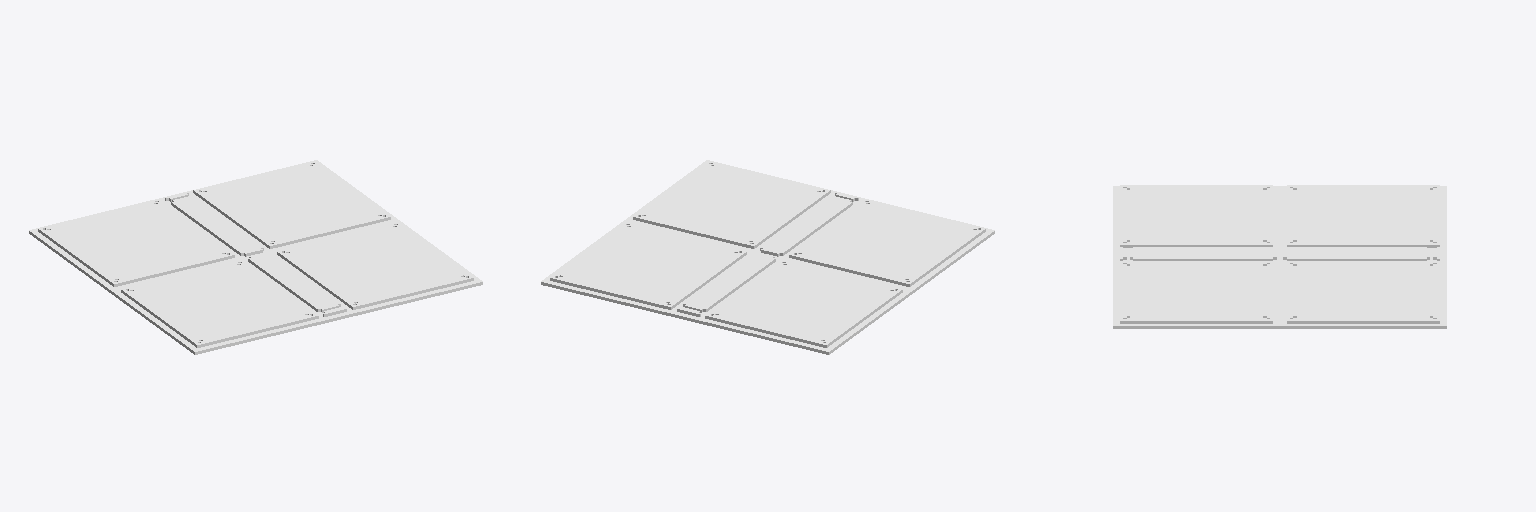
File: a792_WallPanel.obj
The picture shows the model from 3 angles: view 1: azimuth 30°, elevation 25°; view 2: azimuth 150°, elevation 25°; view 3: azimuth 270°, elevation 25°; orthographic projection.
Bounding box in the file's own units: 100 × 2 × 100.